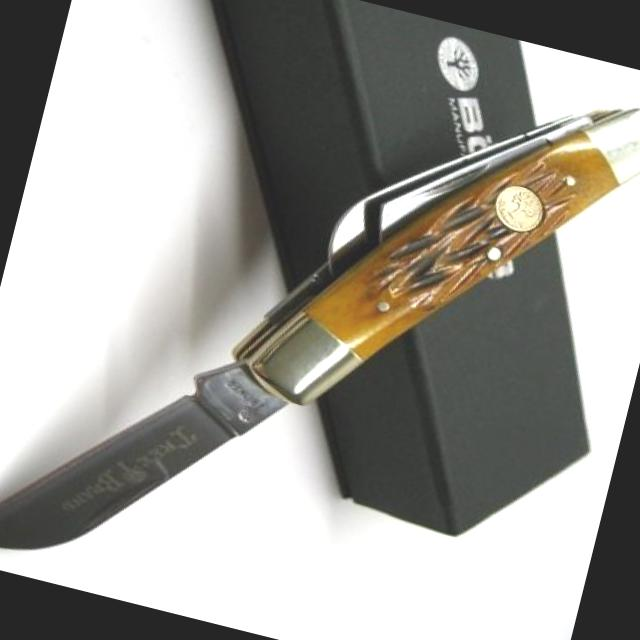knife: (0, 292, 311, 623)
